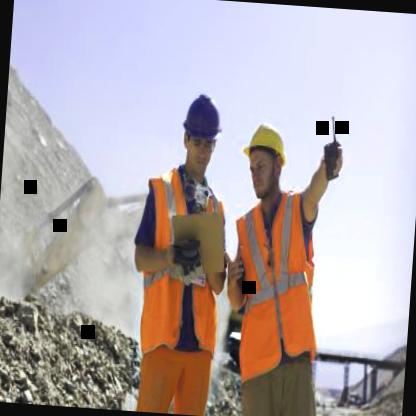helmet: (235, 112, 294, 206), (176, 84, 230, 183)
